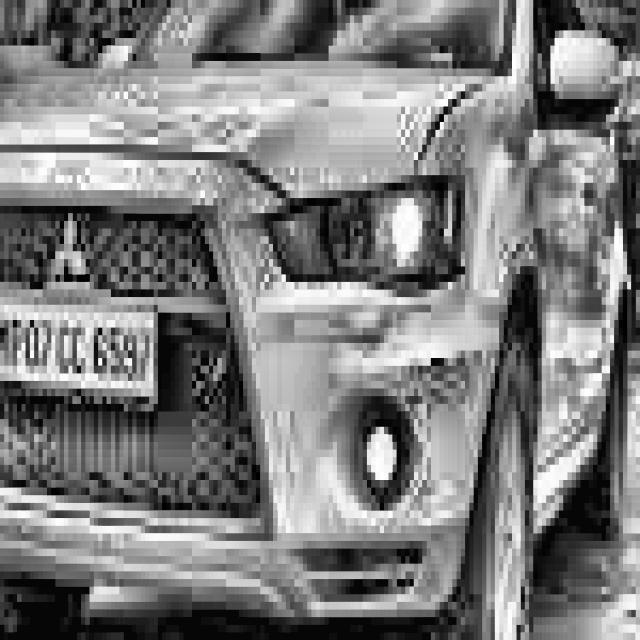light_vehicle: (0, 0, 636, 640)
